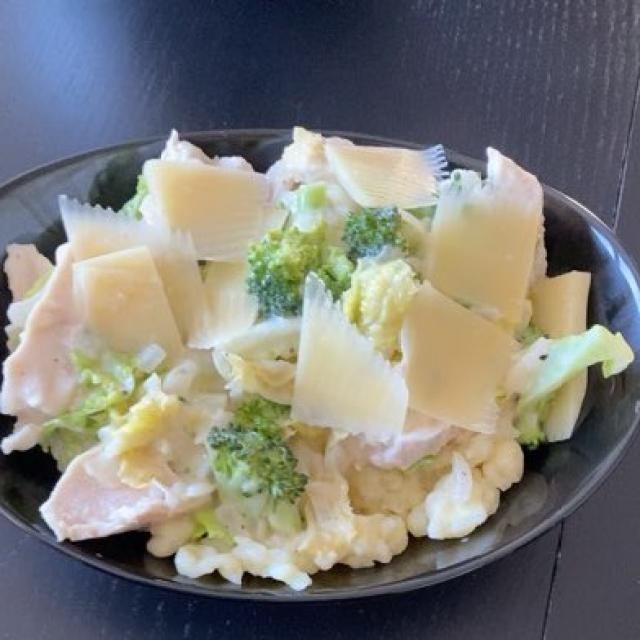cheese: (5, 128, 584, 532)
